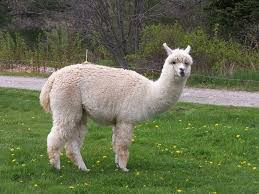alpaca: (39, 42, 192, 172)
